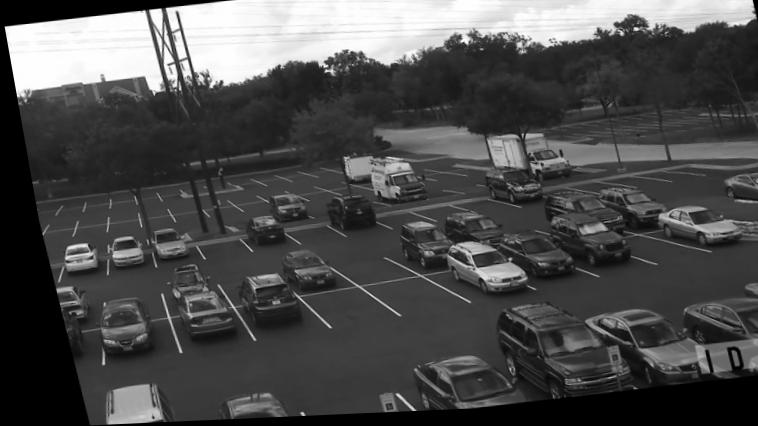empty: (278, 376, 398, 418), (355, 280, 452, 323), (321, 243, 405, 284), (290, 291, 373, 327), (614, 236, 697, 271), (186, 236, 246, 264), (404, 203, 459, 225), (209, 263, 253, 289), (280, 225, 332, 247), (95, 277, 146, 299), (449, 200, 508, 216), (370, 208, 416, 227), (499, 217, 542, 235), (407, 172, 454, 185), (626, 175, 681, 186), (561, 185, 608, 197), (99, 219, 134, 235), (160, 212, 203, 225), (195, 207, 238, 220), (186, 196, 223, 210), (66, 223, 100, 238), (293, 192, 332, 205), (217, 191, 252, 204), (34, 227, 66, 241), (132, 217, 166, 230), (125, 191, 156, 205), (131, 206, 164, 219), (148, 188, 178, 202), (278, 182, 312, 194), (219, 179, 255, 190), (299, 203, 325, 218), (101, 208, 130, 221), (227, 201, 261, 212), (159, 202, 193, 213), (245, 188, 279, 199), (69, 213, 99, 225), (104, 194, 128, 209), (324, 187, 363, 196), (306, 179, 341, 189), (222, 216, 245, 231), (598, 184, 648, 190), (36, 244, 56, 259), (250, 176, 282, 185), (40, 218, 70, 227), (276, 173, 306, 182), (64, 234, 94, 243), (53, 202, 75, 214), (79, 198, 101, 210), (299, 170, 331, 178), (30, 205, 50, 217), (31, 222, 41, 228)
occupied: (477, 305, 627, 403), (569, 313, 716, 390), (383, 353, 520, 413), (671, 300, 758, 373), (430, 241, 519, 302), (487, 232, 570, 285), (540, 217, 618, 272), (223, 275, 298, 329), (86, 379, 164, 425), (162, 287, 227, 340), (649, 211, 733, 251), (86, 298, 141, 356), (272, 251, 331, 294), (364, 160, 419, 206), (478, 169, 536, 212), (199, 388, 273, 421), (390, 226, 443, 272), (593, 195, 655, 234), (433, 217, 496, 251), (317, 197, 371, 235), (538, 195, 608, 221), (236, 216, 277, 248), (715, 178, 758, 208), (156, 267, 195, 299), (49, 307, 72, 359), (53, 243, 89, 275), (261, 195, 299, 225), (143, 230, 179, 260), (101, 237, 135, 268), (45, 286, 75, 315)
